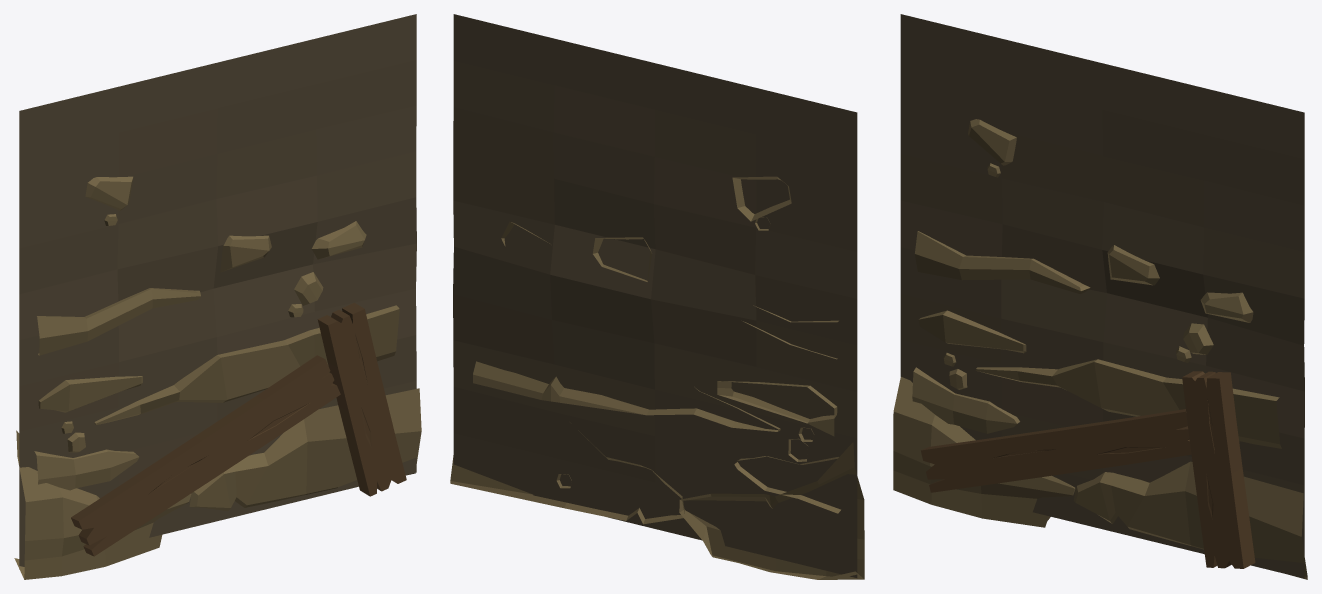
File: Basement_Wall_Var2.glb
3 views of the same model, side by side, from view 1: azimuth 30°, elevation 25°; view 2: azimuth 150°, elevation 25°; view 3: azimuth 330°, elevation 25° (orthographic).
Visible parts, largest first — view 1: Basement_Wall_Var2.001; view 2: Basement_Wall_Var2.001; view 3: Basement_Wall_Var2.001.
Boxes of the visible parts, left/top/right/bottom form: Basement_Wall_Var2.001: left=14, top=14, right=421, bottom=579; Basement_Wall_Var2.001: left=450, top=14, right=864, bottom=579; Basement_Wall_Var2.001: left=893, top=14, right=1307, bottom=579.
Bounding box in the file's own units: 4.03 × 4.56 × 0.5106.
Materials: 3 (3 with a texture image).
